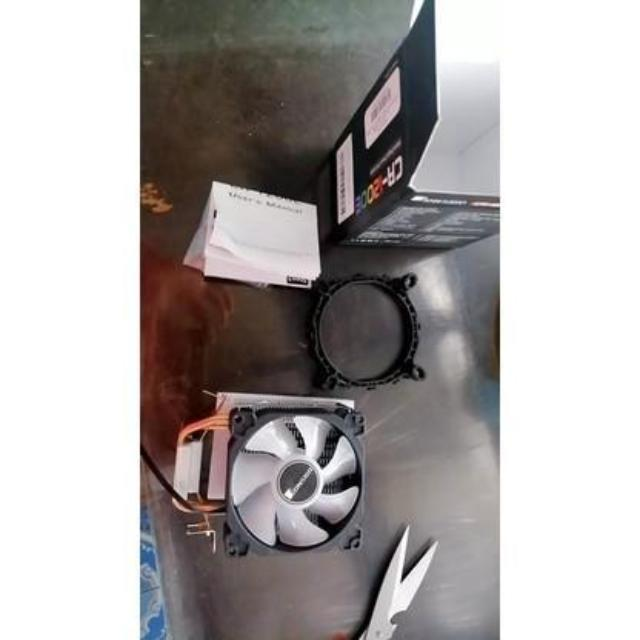CPU_Fan: (177, 395, 366, 560)
